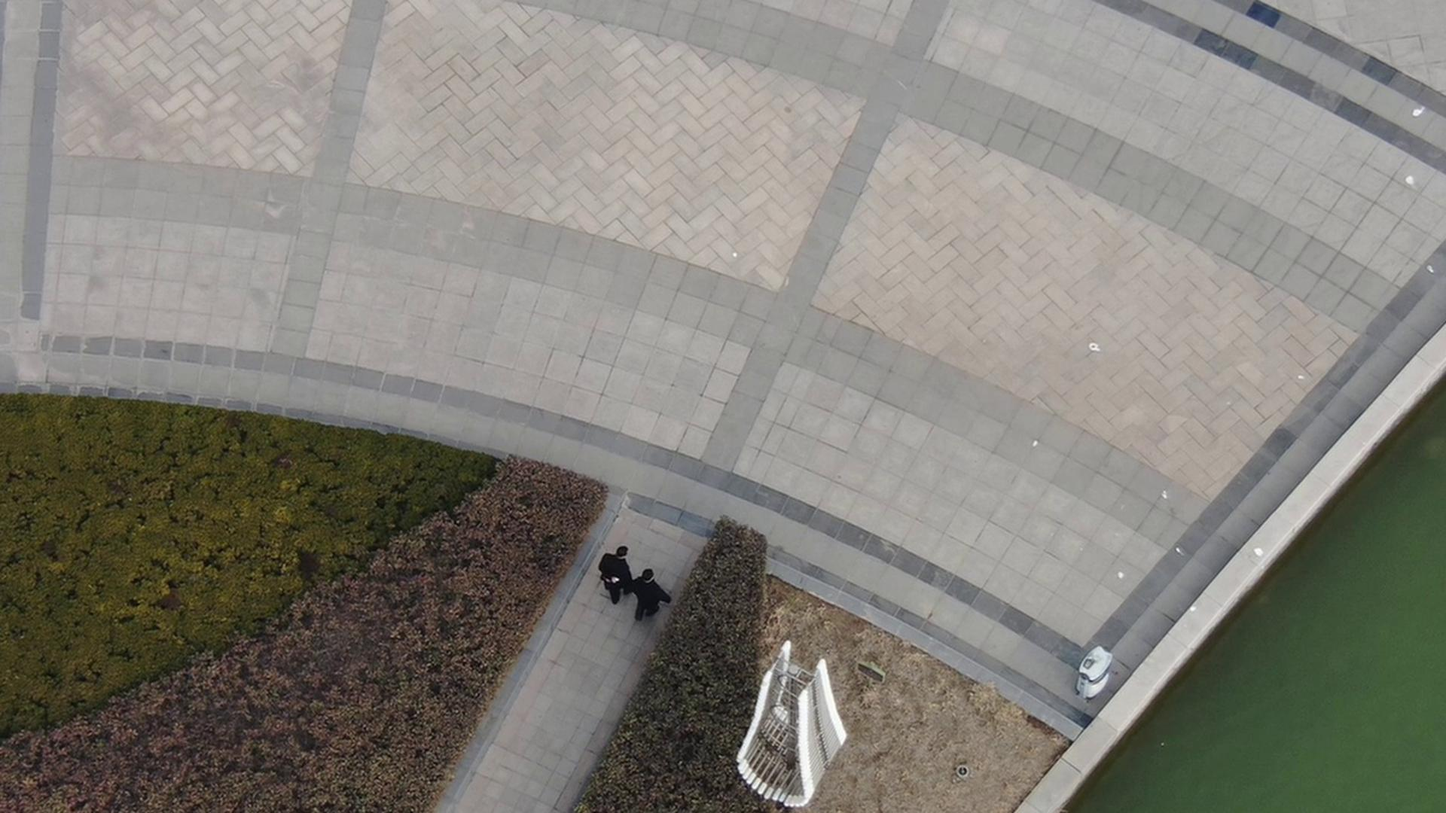human: (589, 535, 630, 611), (626, 556, 669, 626)
